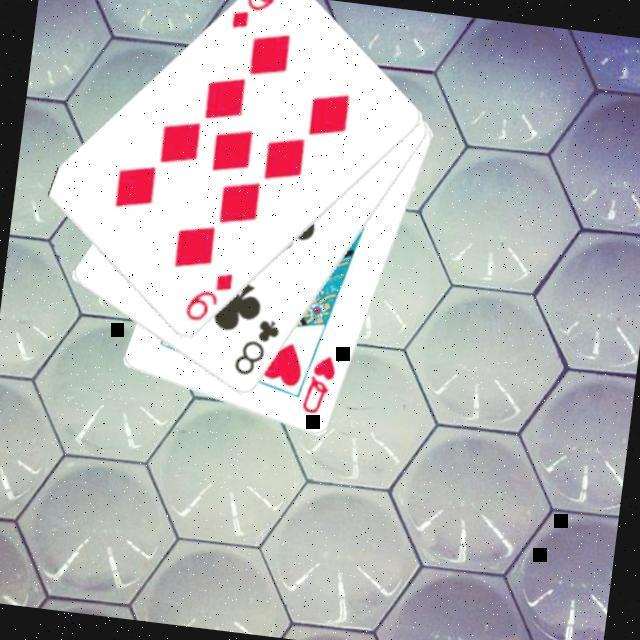8C: (230, 314, 285, 383)
9D: (181, 266, 238, 331), (227, 0, 282, 38)
QH: (298, 351, 342, 421)
